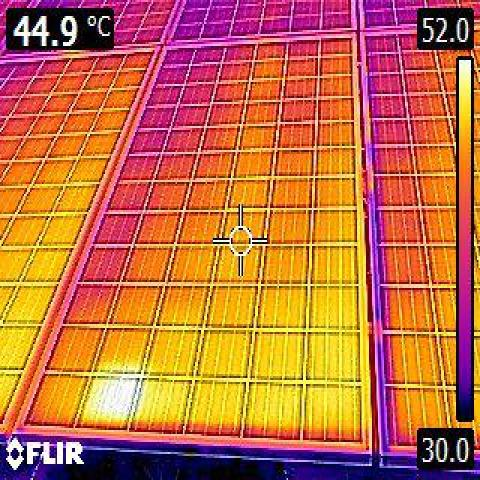fault: (90, 380, 137, 432)
